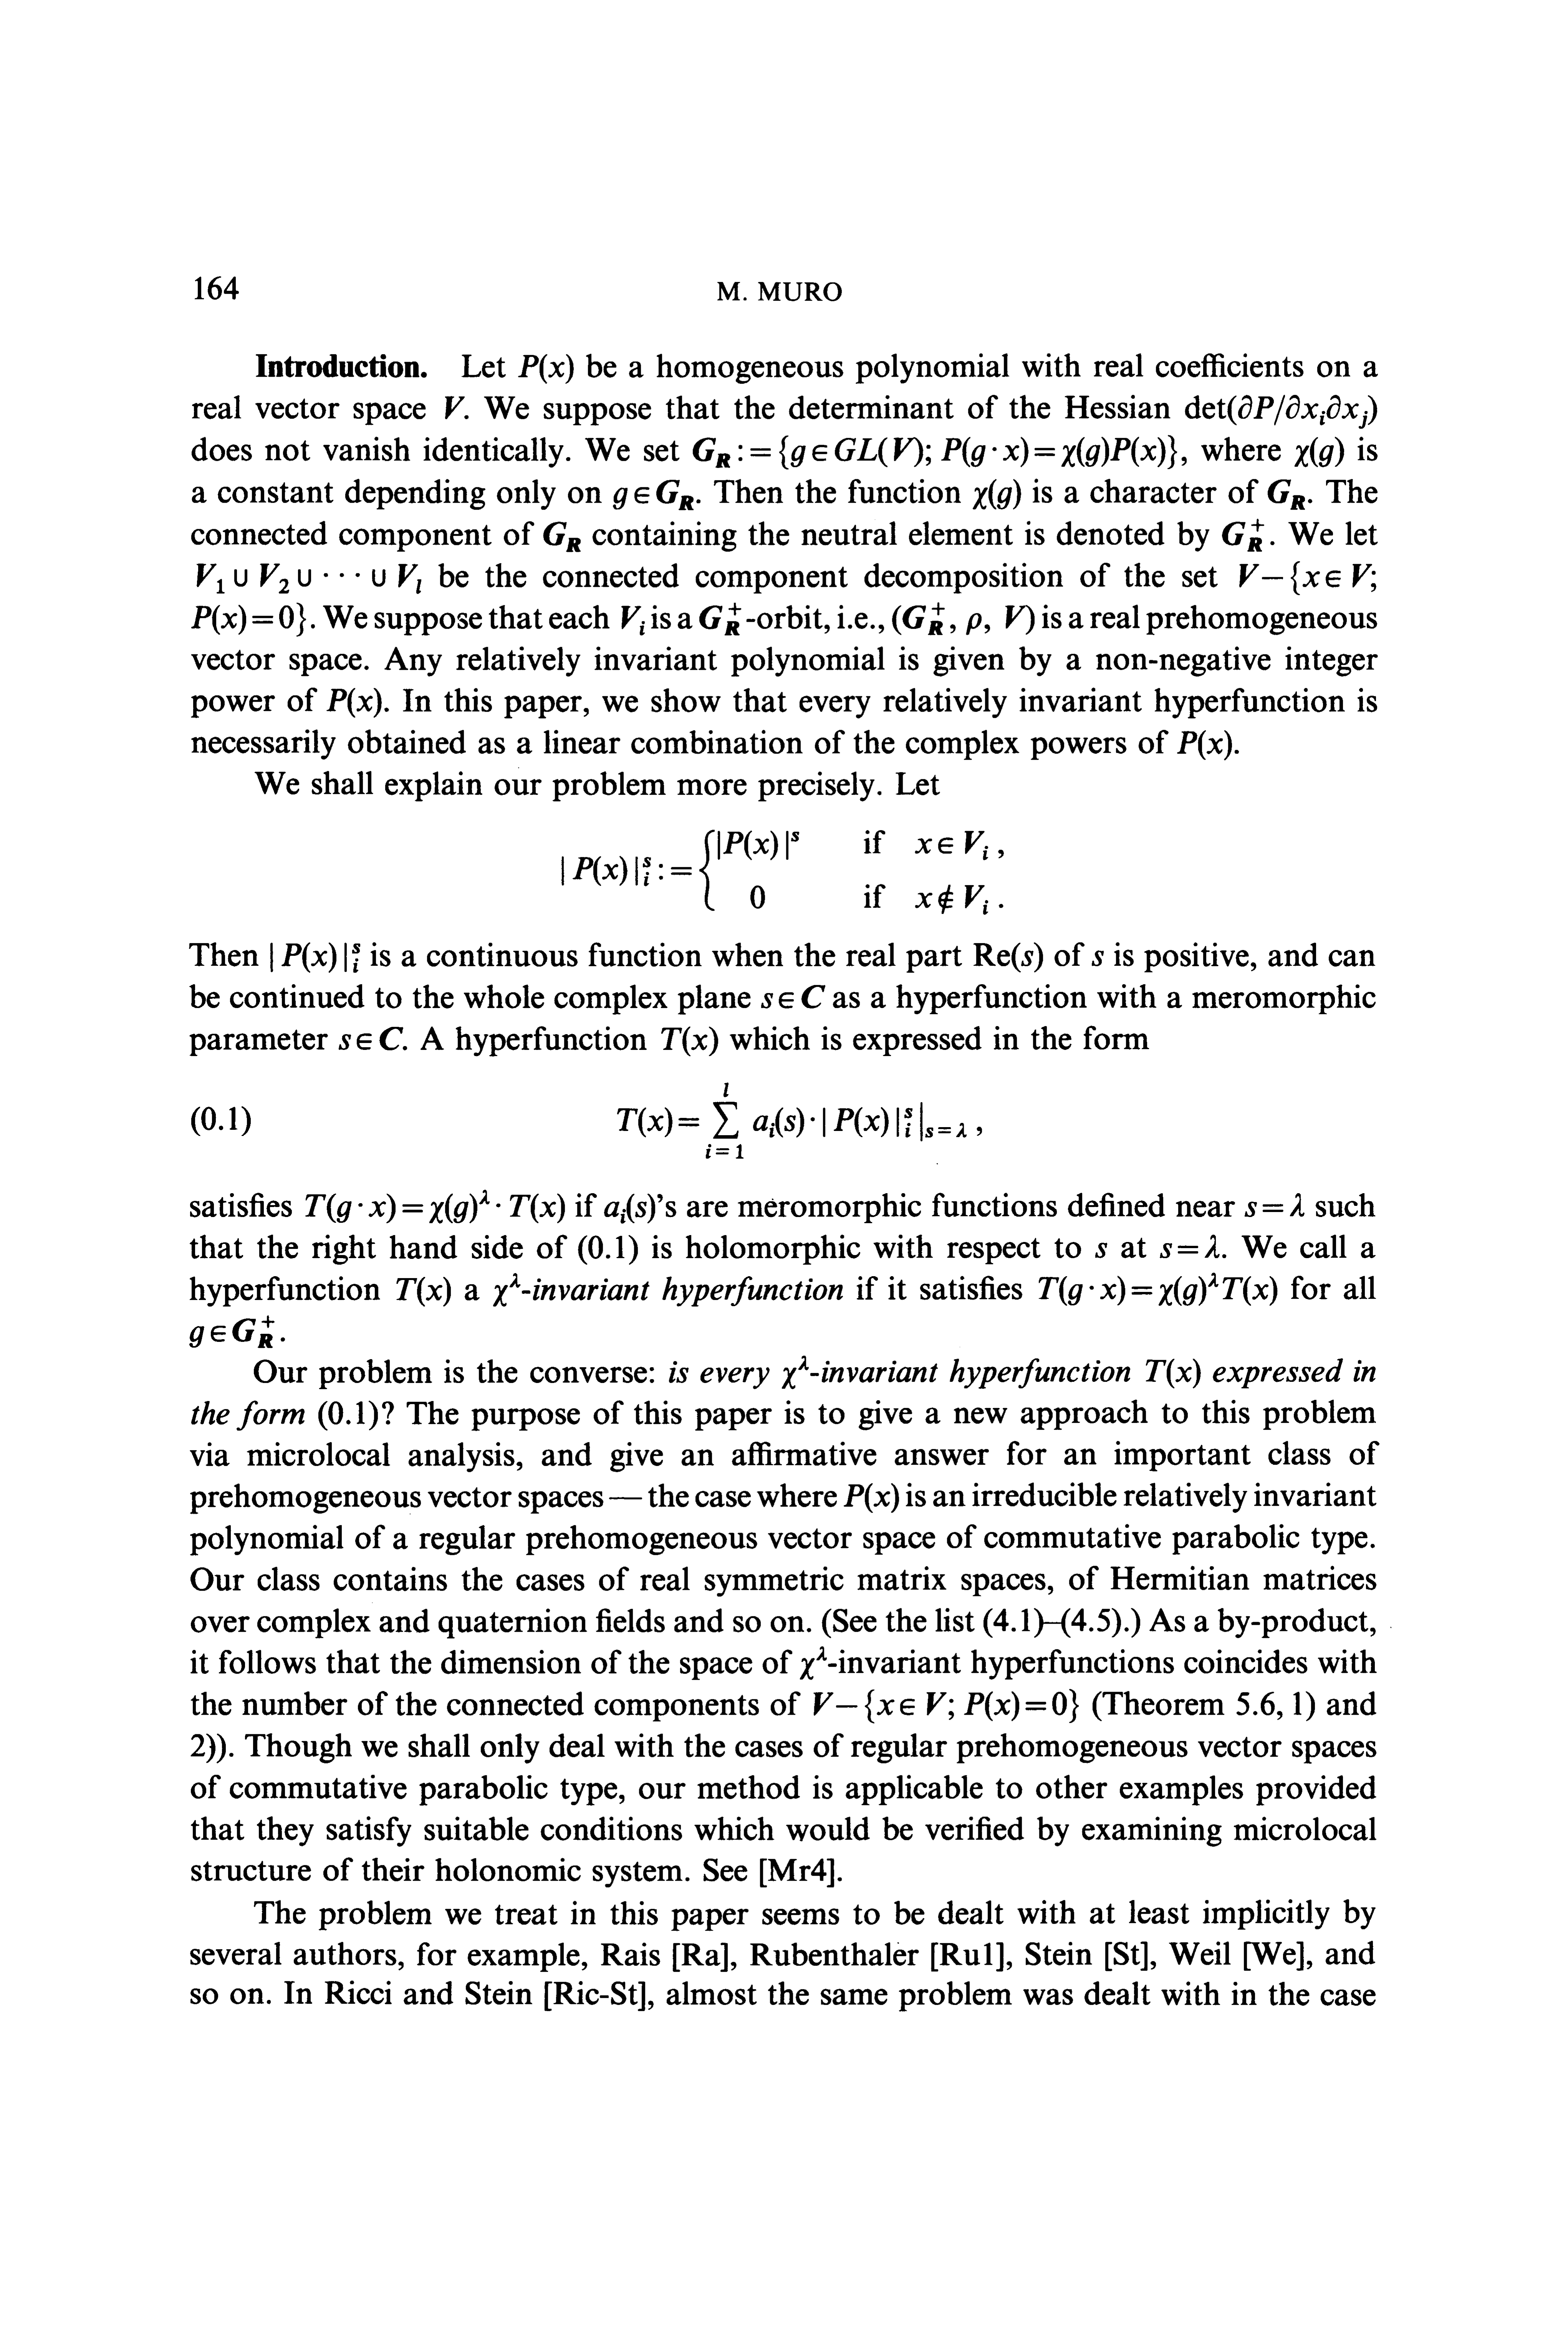maths: (562, 830, 1003, 914), (618, 1083, 966, 1159), (693, 436, 1176, 469), (814, 1689, 1078, 1722), (305, 1190, 565, 1223), (1039, 1272, 1277, 1306), (196, 564, 420, 593), (1185, 396, 1377, 429), (892, 602, 1034, 635), (1239, 562, 1375, 595), (191, 602, 306, 637), (269, 942, 361, 973), (189, 1316, 275, 1348), (612, 480, 693, 509), (973, 942, 1043, 971), (518, 354, 574, 383), (843, 1482, 900, 1512), (327, 688, 382, 718), (1178, 730, 1232, 760), (1146, 1358, 1200, 1388), (661, 1027, 717, 1055), (1295, 436, 1344, 467), (396, 1278, 450, 1306), (339, 1027, 406, 1050), (604, 1194, 654, 1223), (1160, 1234, 1220, 1258), (761, 985, 824, 1008), (973, 480, 1020, 509), (1221, 518, 1263, 551), (1244, 1194, 1304, 1216), (700, 602, 740, 635), (543, 522, 581, 551), (1267, 480, 1304, 509), (494, 1272, 520, 1306), (800, 1647, 826, 1680), (782, 1356, 808, 1388), (621, 606, 644, 635), (445, 396, 467, 418), (1092, 950, 1104, 966), (1096, 1243, 1108, 1258)
